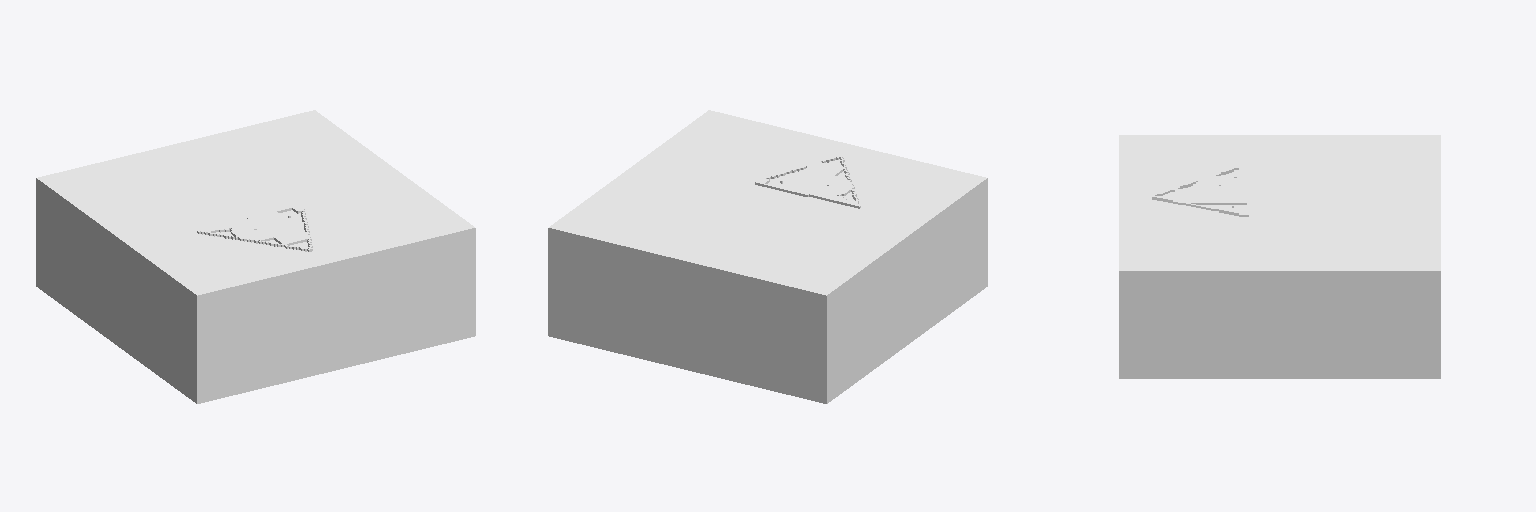
Rendered from multiple-0.obj.
The picture shows the model from 3 angles: view 1: azimuth 30°, elevation 25°; view 2: azimuth 150°, elevation 25°; view 3: azimuth 270°, elevation 25°; orthographic projection.
Parts seen in each view (by area): view 1: multiple-0; view 2: multiple-0; view 3: multiple-0.
Part boxes in pixels (x1,y1,x2,y2): multiple-0: (36, 110, 475, 403); multiple-0: (548, 110, 987, 403); multiple-0: (1119, 135, 1440, 378).
Size of the model in its own units: 126 by 48 by 126.